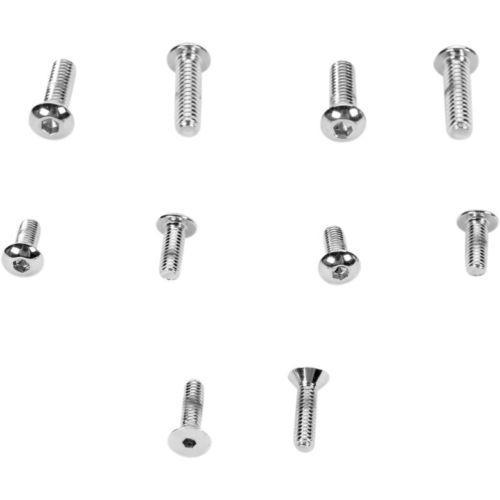Tornillo: (431, 43, 482, 140), (164, 42, 212, 137), (283, 363, 330, 453), (320, 57, 368, 141), (28, 57, 77, 139), (165, 378, 214, 458), (454, 208, 499, 278), (153, 210, 196, 281), (315, 225, 364, 286), (1, 217, 46, 277)
